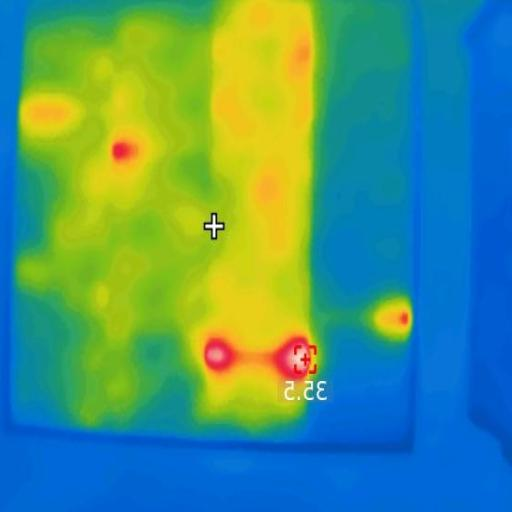hotspot: (265, 332, 312, 386), (201, 334, 242, 372), (108, 139, 140, 163), (400, 310, 412, 328)
